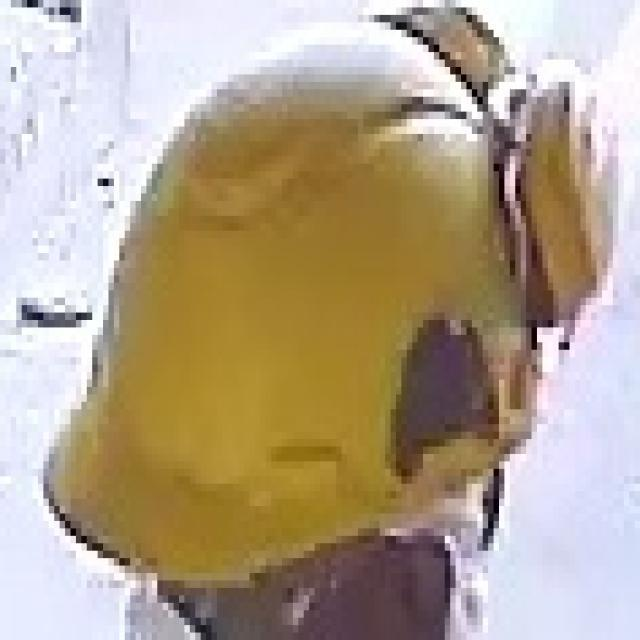yellow helmet: (34, 14, 619, 594)
